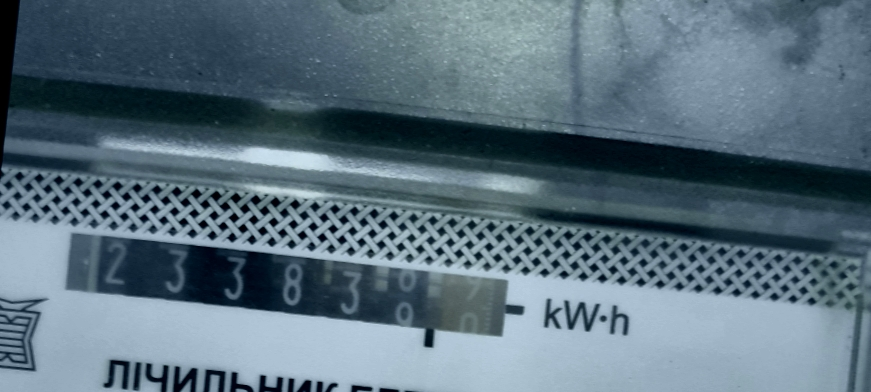0: (456, 309, 481, 337)
2: (101, 240, 130, 289)
3: (216, 252, 250, 304), (158, 245, 192, 296), (335, 268, 364, 316)
8: (275, 260, 307, 309), (394, 267, 419, 296)
9: (459, 273, 484, 305), (391, 298, 415, 330)
screen: (50, 221, 530, 362)
